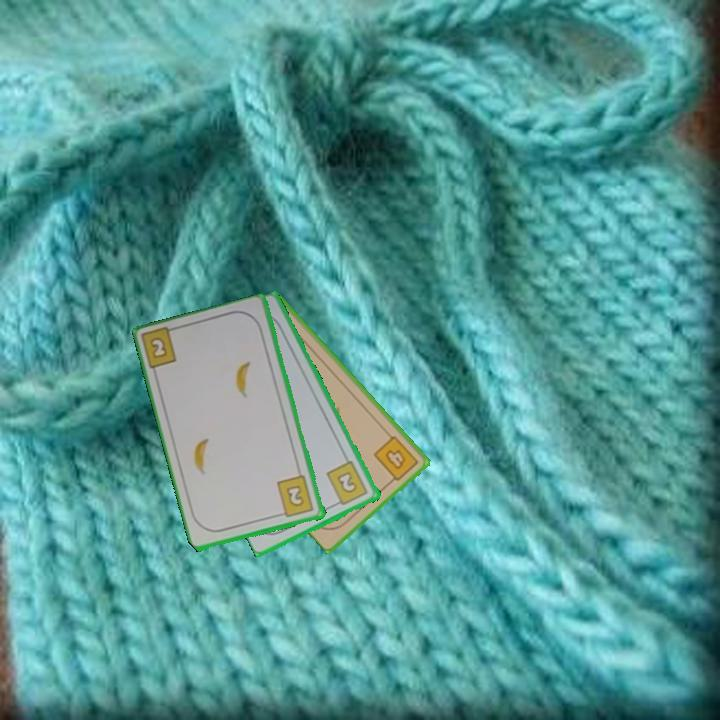2b: (323, 458, 371, 509), (274, 472, 317, 520), (146, 334, 170, 362)
4b: (370, 432, 422, 487)
